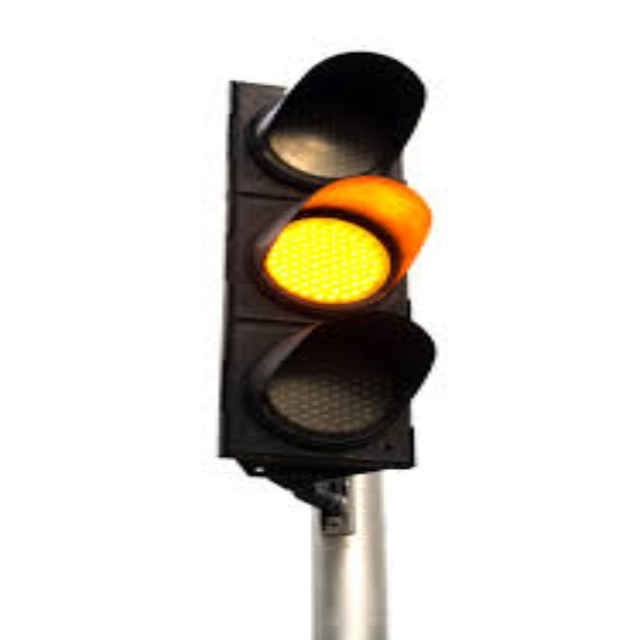yellow_light: (242, 205, 409, 307)
